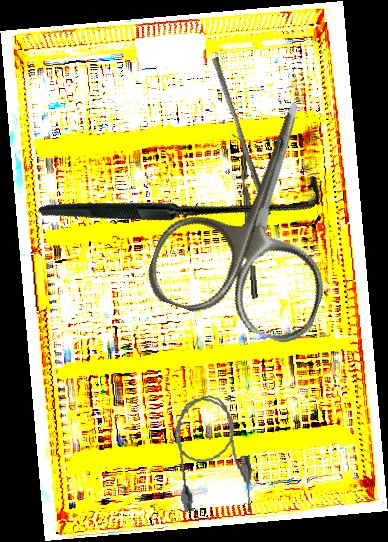Cannula: (167, 390, 258, 522)
Chopper: (232, 132, 258, 300)
Hook Surgical: (37, 54, 329, 345)
Iris Scissors: (140, 76, 379, 350)
Pusher: (206, 56, 278, 217)
